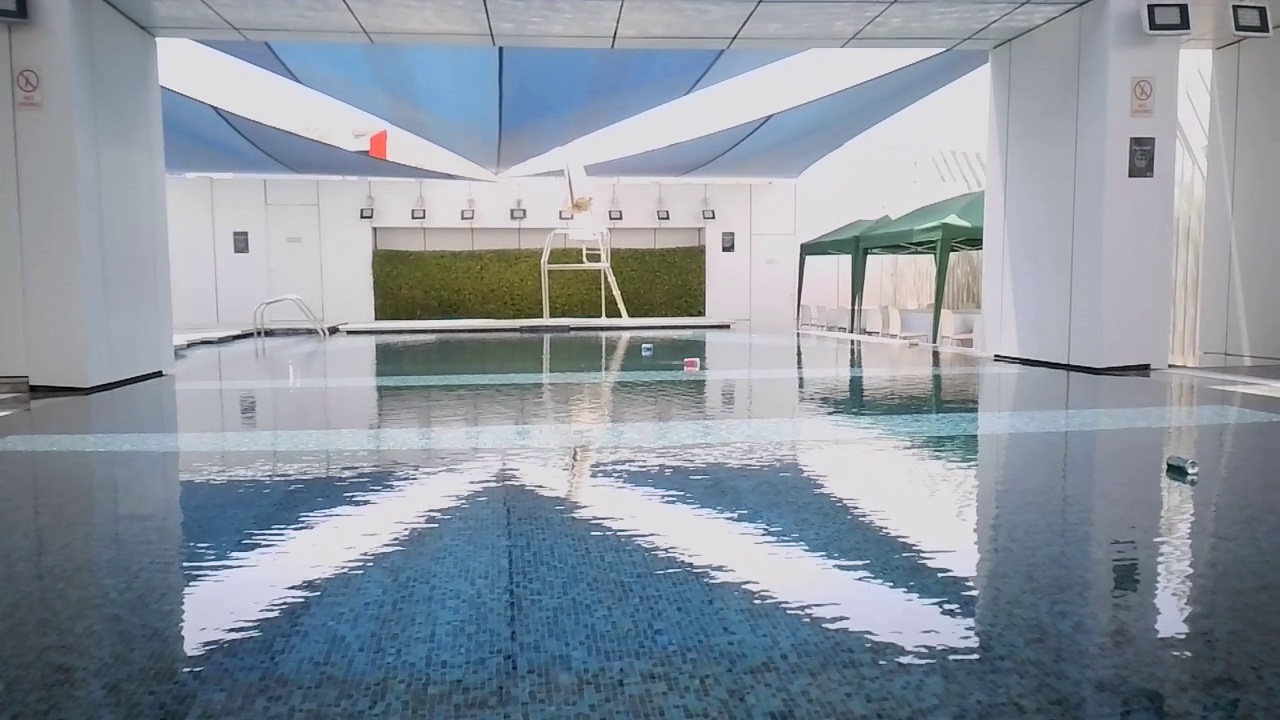debris: (1159, 449, 1204, 483), (679, 355, 705, 373), (638, 341, 658, 357), (906, 338, 922, 350)
